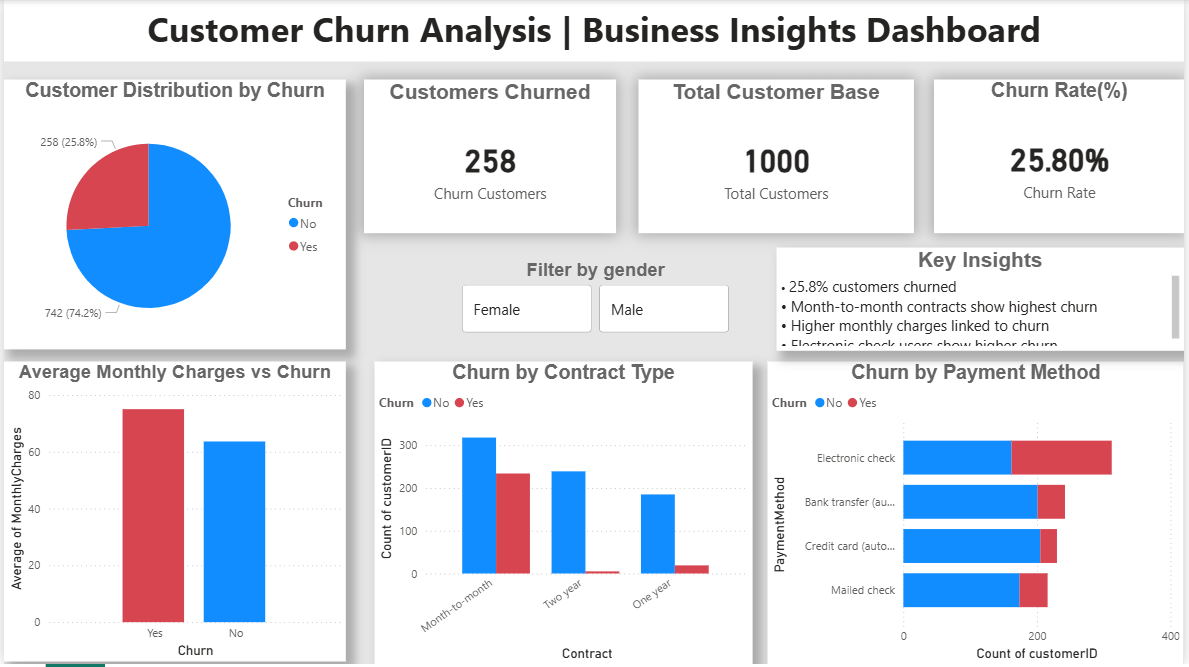

This screenshot's page, from the dashboard's own definition file:
{"tool":"powerbi","page":{"name":"Page 1","canvas":[1280,720],"ordinal":0},"visuals":[{"type":"pieChart","title":"Customer Distribution by Churn","fields":{"Category":["churn data.Churn"],"Y":["CountNonNull(churn data.customerID)"]},"box":[0,86.2,370.9,292.8],"z":0},{"type":"clusteredColumnChart","title":"Churn by Contract Type","fields":{"Category":["churn data.Contract"],"Y":["CountNonNull(churn data.customerID)"],"Series":["churn data.Churn"]},"box":[401.8,392,409.9,328.6],"z":1000},{"type":"columnChart","title":"Average Monthly Charges vs Churn","fields":{"Y":["Avg(churn data.MonthlyCharges)"],"Category":["churn data.Churn"]},"box":[0,392,370.9,325.3],"z":2000},{"type":"barChart","title":"Churn by Payment Method","fields":{"Category":["churn data.PaymentMethod"],"Series":["churn data.Churn"],"Y":["CountNonNull(churn data.customerID)"]},"box":[827.7,391.2,451.7,328.8],"z":3000},{"type":"textbox","box":[0,0,1280.1,66.7],"z":4000},{"type":"card","title":" Customers Churned","fields":{"Values":["churn data.Churn Customers"]},"box":[390,86.7,273.3,166.7],"z":5000},{"type":"card","title":"Churn Rate(%)","fields":{"Values":["churn data.Churn Rate"]},"box":[1008.3,86.7,271.7,166.7],"z":6000},{"type":"card","title":"Total Customer Base","fields":{"Values":["churn data.Total Customers"]},"box":[688.3,86.7,298.3,166.7],"z":7000},{"type":"textbox","title":"Key Insights","box":[838.3,268.3,441.7,111.7],"z":8000},{"type":"advancedSlicerVisual","title":"Filter by gender","fields":{"Values":["dim_customers.gender"]},"box":[491.2,281.4,300.9,84.6],"z":8001}]}

Visuals, with their boxes in screenshot pixels (x1, y1, x2, y2), scaled from the page's 1280x720 canvas onto the 1189x667 screenshot:
"Customer Distribution by Churn" pieChart: 0, 80, 345, 351
"Churn by Contract Type" clusteredColumnChart: 373, 363, 754, 666
"Average Monthly Charges vs Churn" columnChart: 0, 363, 345, 664
"Churn by Payment Method" barChart: 769, 362, 1188, 666
textbox: 0, 0, 1188, 62
" Customers Churned" card: 362, 80, 616, 235
"Churn Rate(%)" card: 937, 80, 1188, 235
"Total Customer Base" card: 639, 80, 916, 235
"Key Insights" textbox: 779, 249, 1188, 352
"Filter by gender" advancedSlicerVisual: 456, 261, 736, 339
